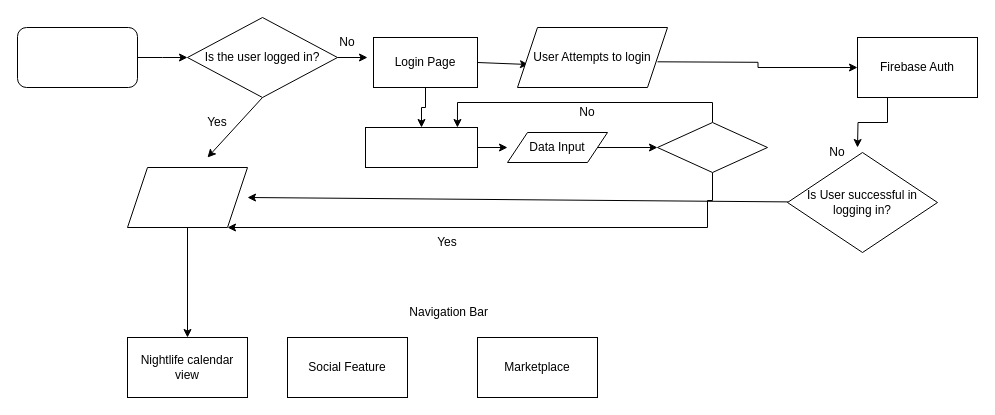
Some shapes in this 995 by 415 pixel diagram are drawn without their labels. The shapes that lost their labels are listed below. From the top down, each one's centre as x and y in pixels, then its label:
At [77,57]: "Start".
At [421,147]: "Sign up Page".
At [712,147]: "Is sign up successful?".
At [187,197]: "User logged in successfully".
